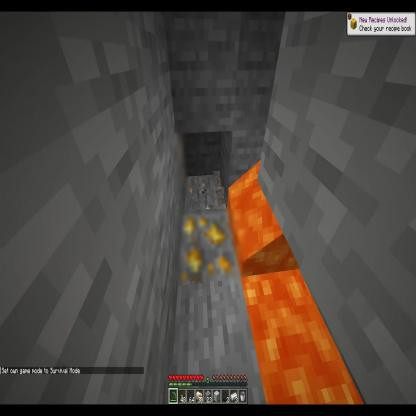gold ore: (175, 209, 246, 281)
iron ore: (174, 126, 189, 198)
